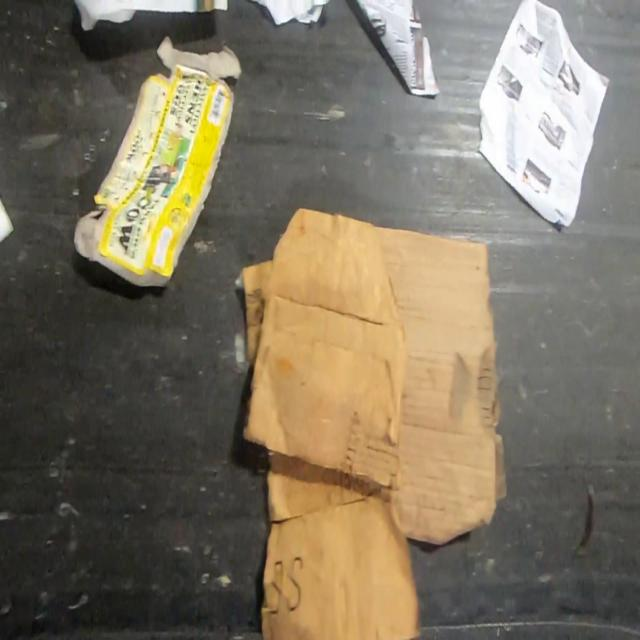cardboard: (239, 203, 509, 640), (72, 32, 245, 289)
